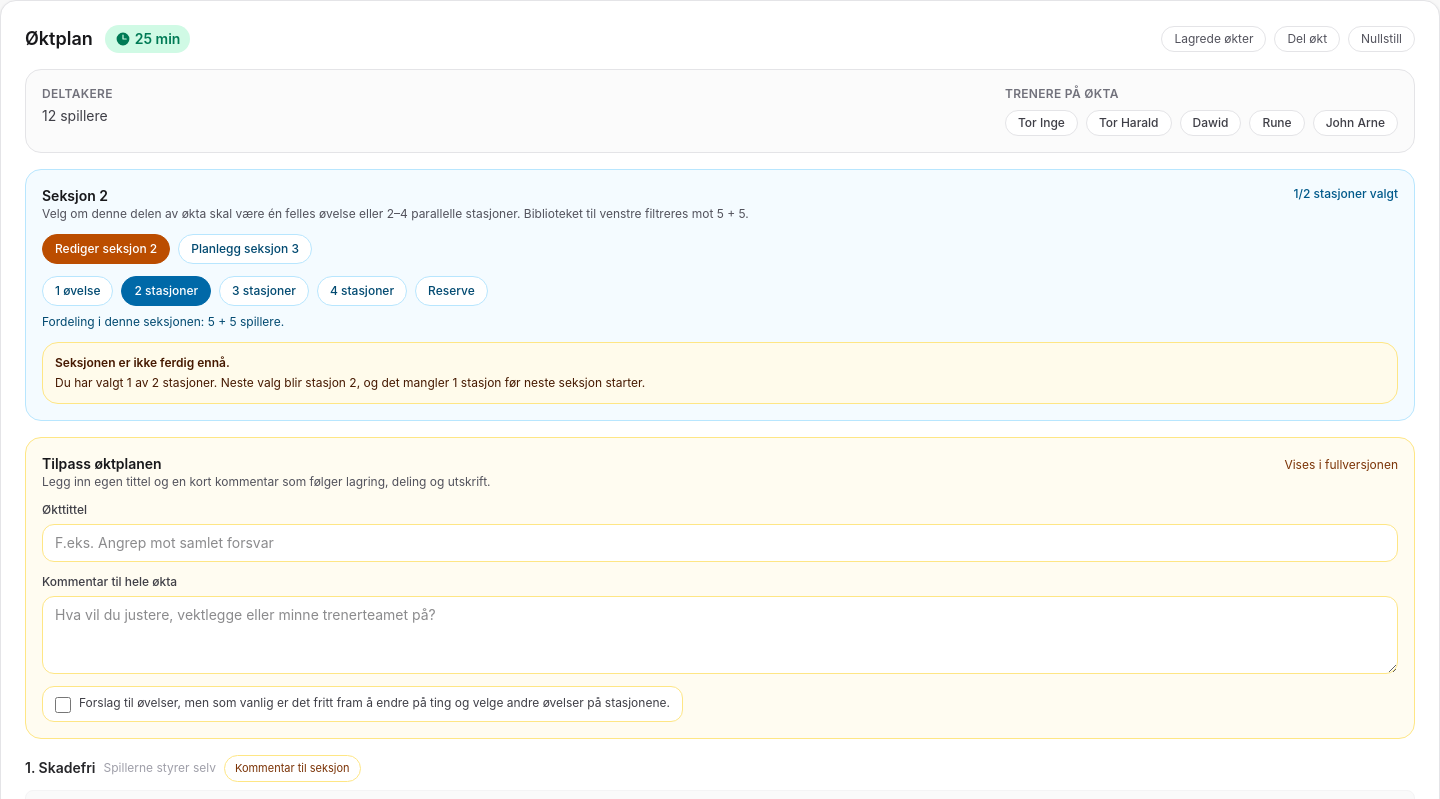
Scenario: SessionTimeline sharing › switches the visible station count when changing between current and next section
The image size is (1440, 799).
Expected: the text "1/2 stasjoner valgt" is shown, [1294,186,1398,202]
Click the button "Planlegg seksjon 3".
click(245, 249)  # box [178,234,312,264]
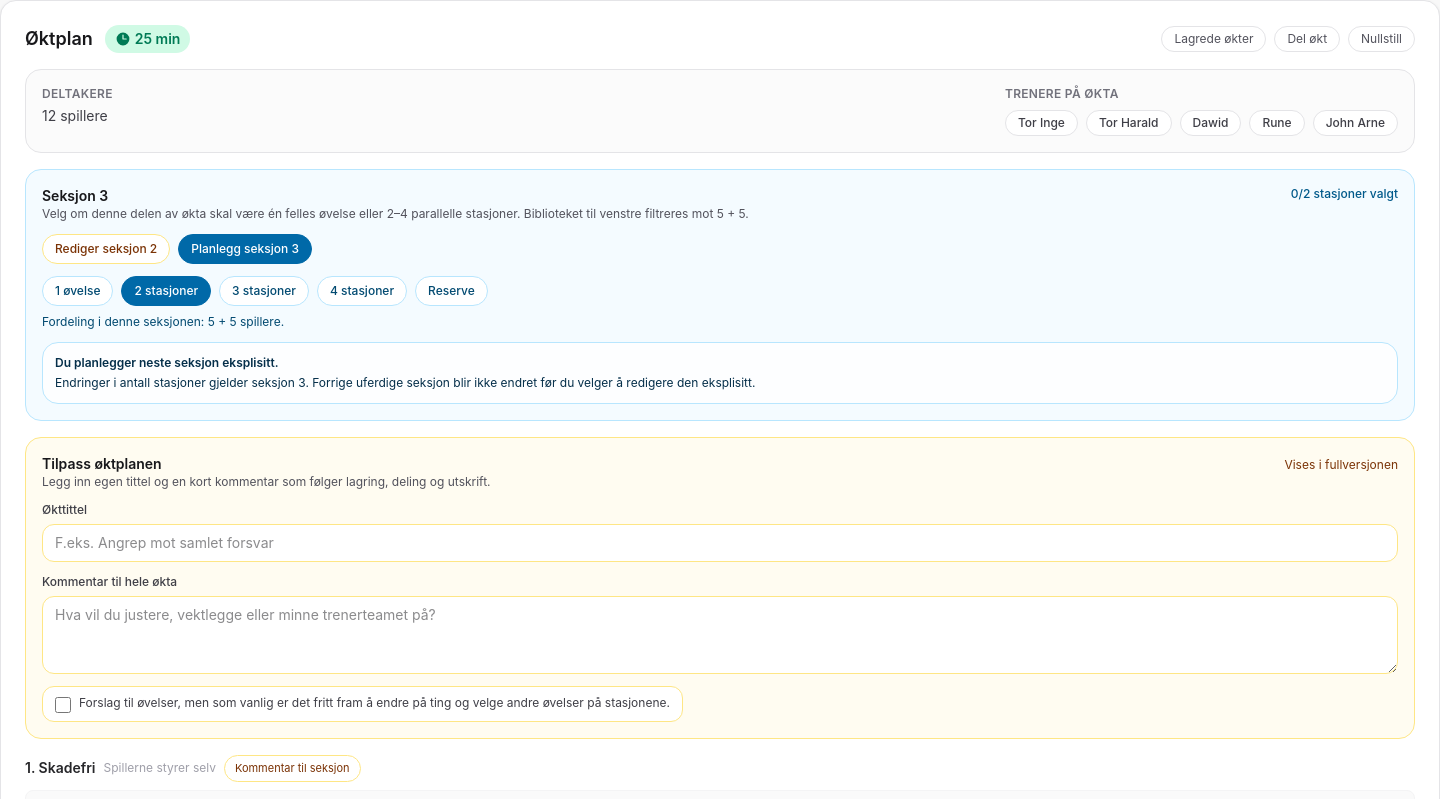
Click the button "3 stasjoner".
click(264, 291)  # box [219,276,309,306]
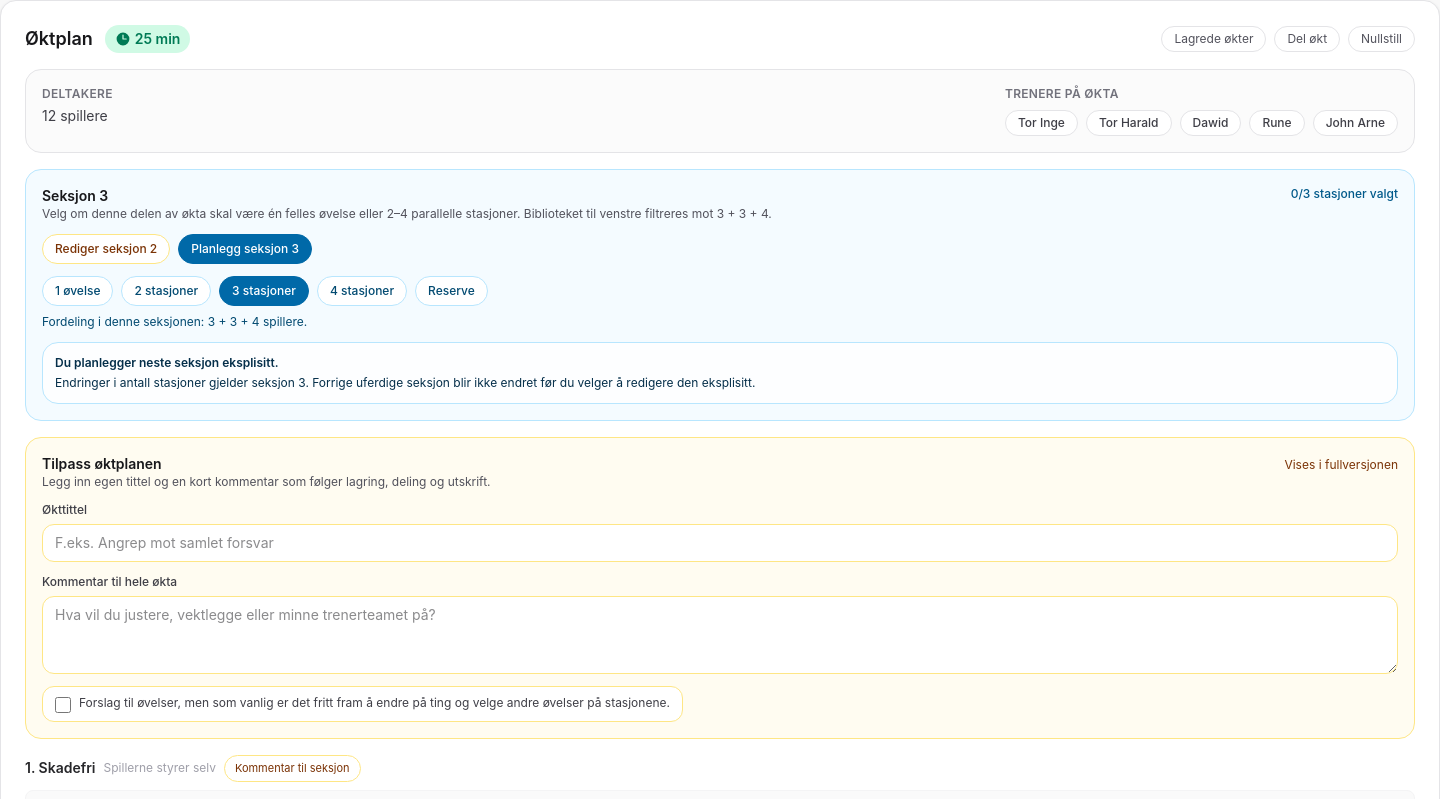
Expected: the text "0/3 stasjoner valgt" is shown, [1291,186,1398,202]
Click the button "Rediger seksjon 2".
click(106, 249)  # box [42,234,170,264]
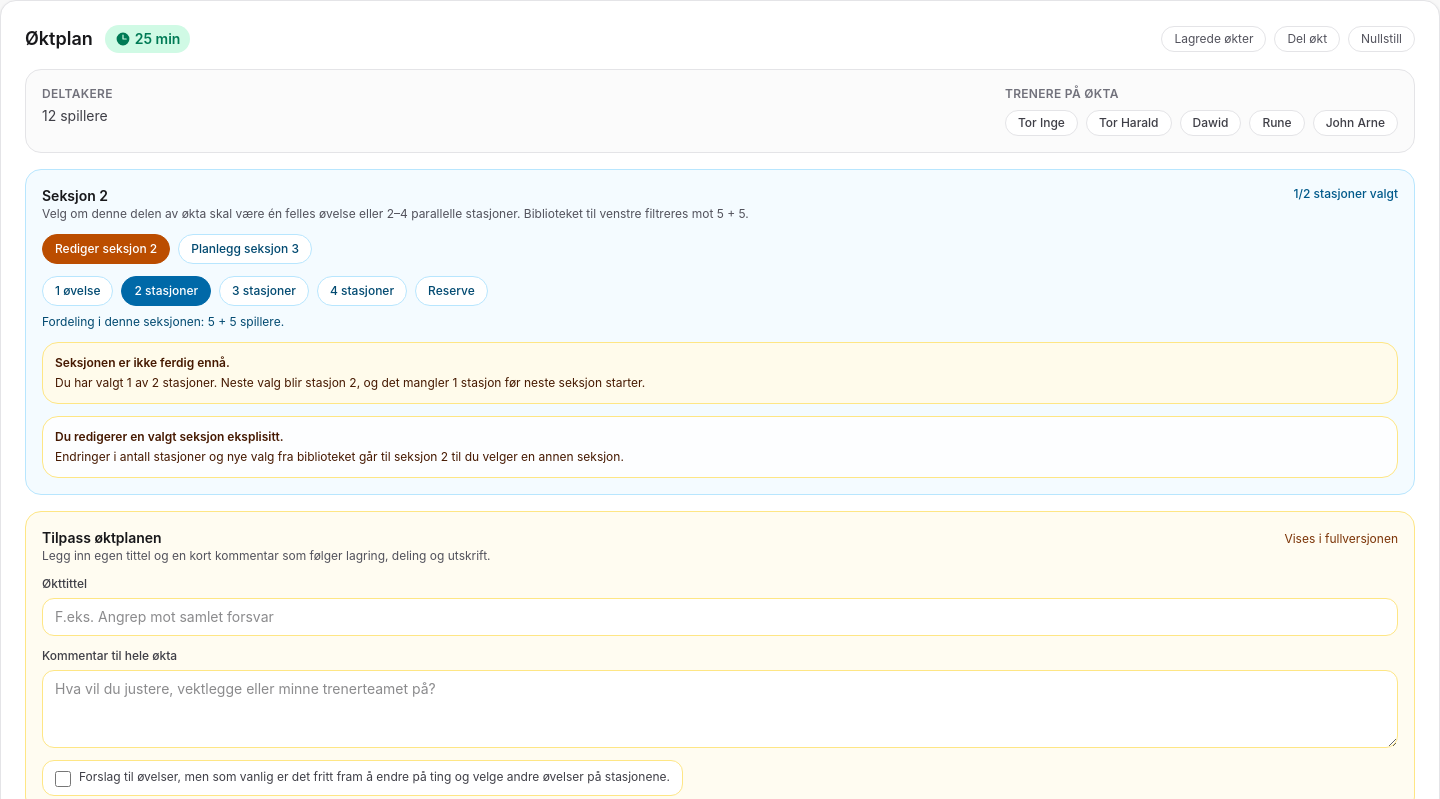
Expected: the text "1/2 stasjoner valgt" is shown, [1294,186,1398,202]
Expected: the text "0/3 stasjoner valgt" is gone
